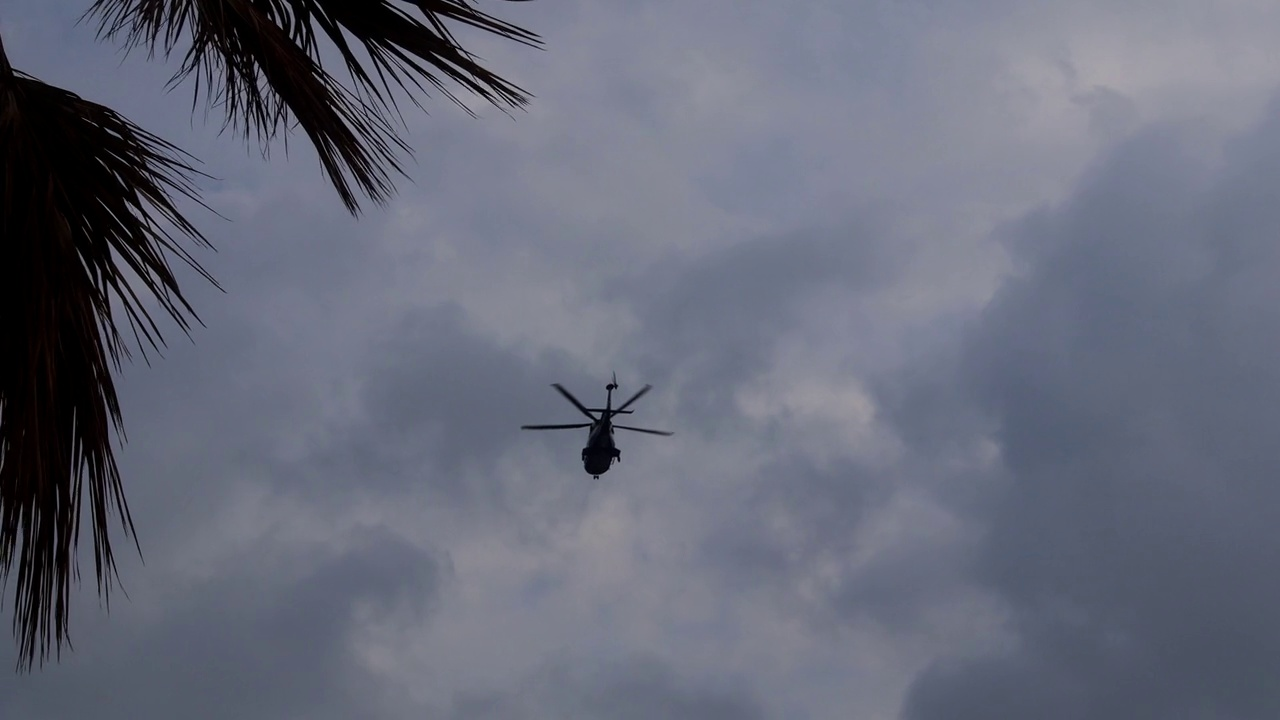heli: (519, 380, 674, 478)
